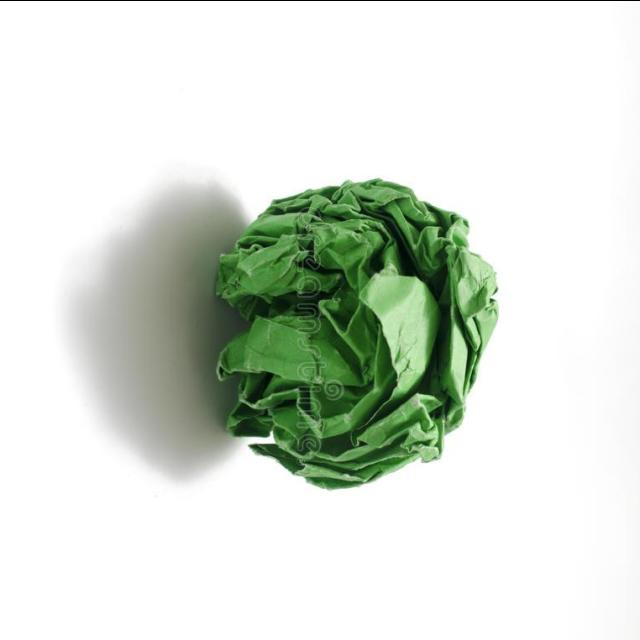kertas: (213, 175, 501, 490)
